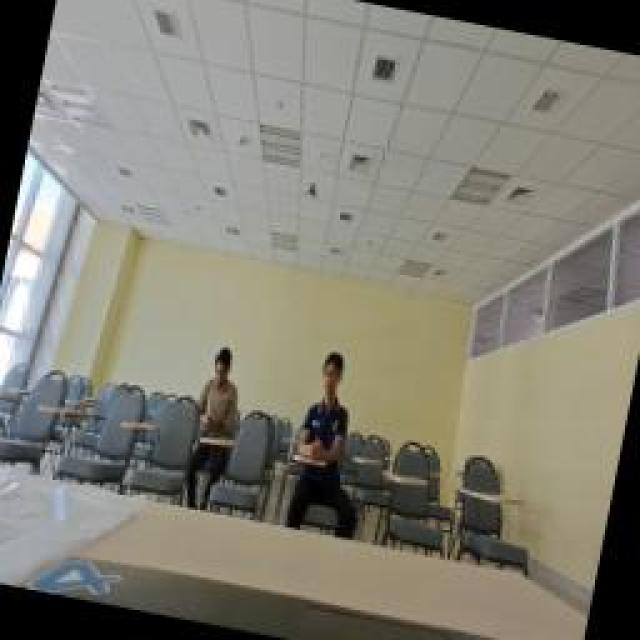phone: (190, 342, 248, 442)
study: (293, 343, 365, 465)
